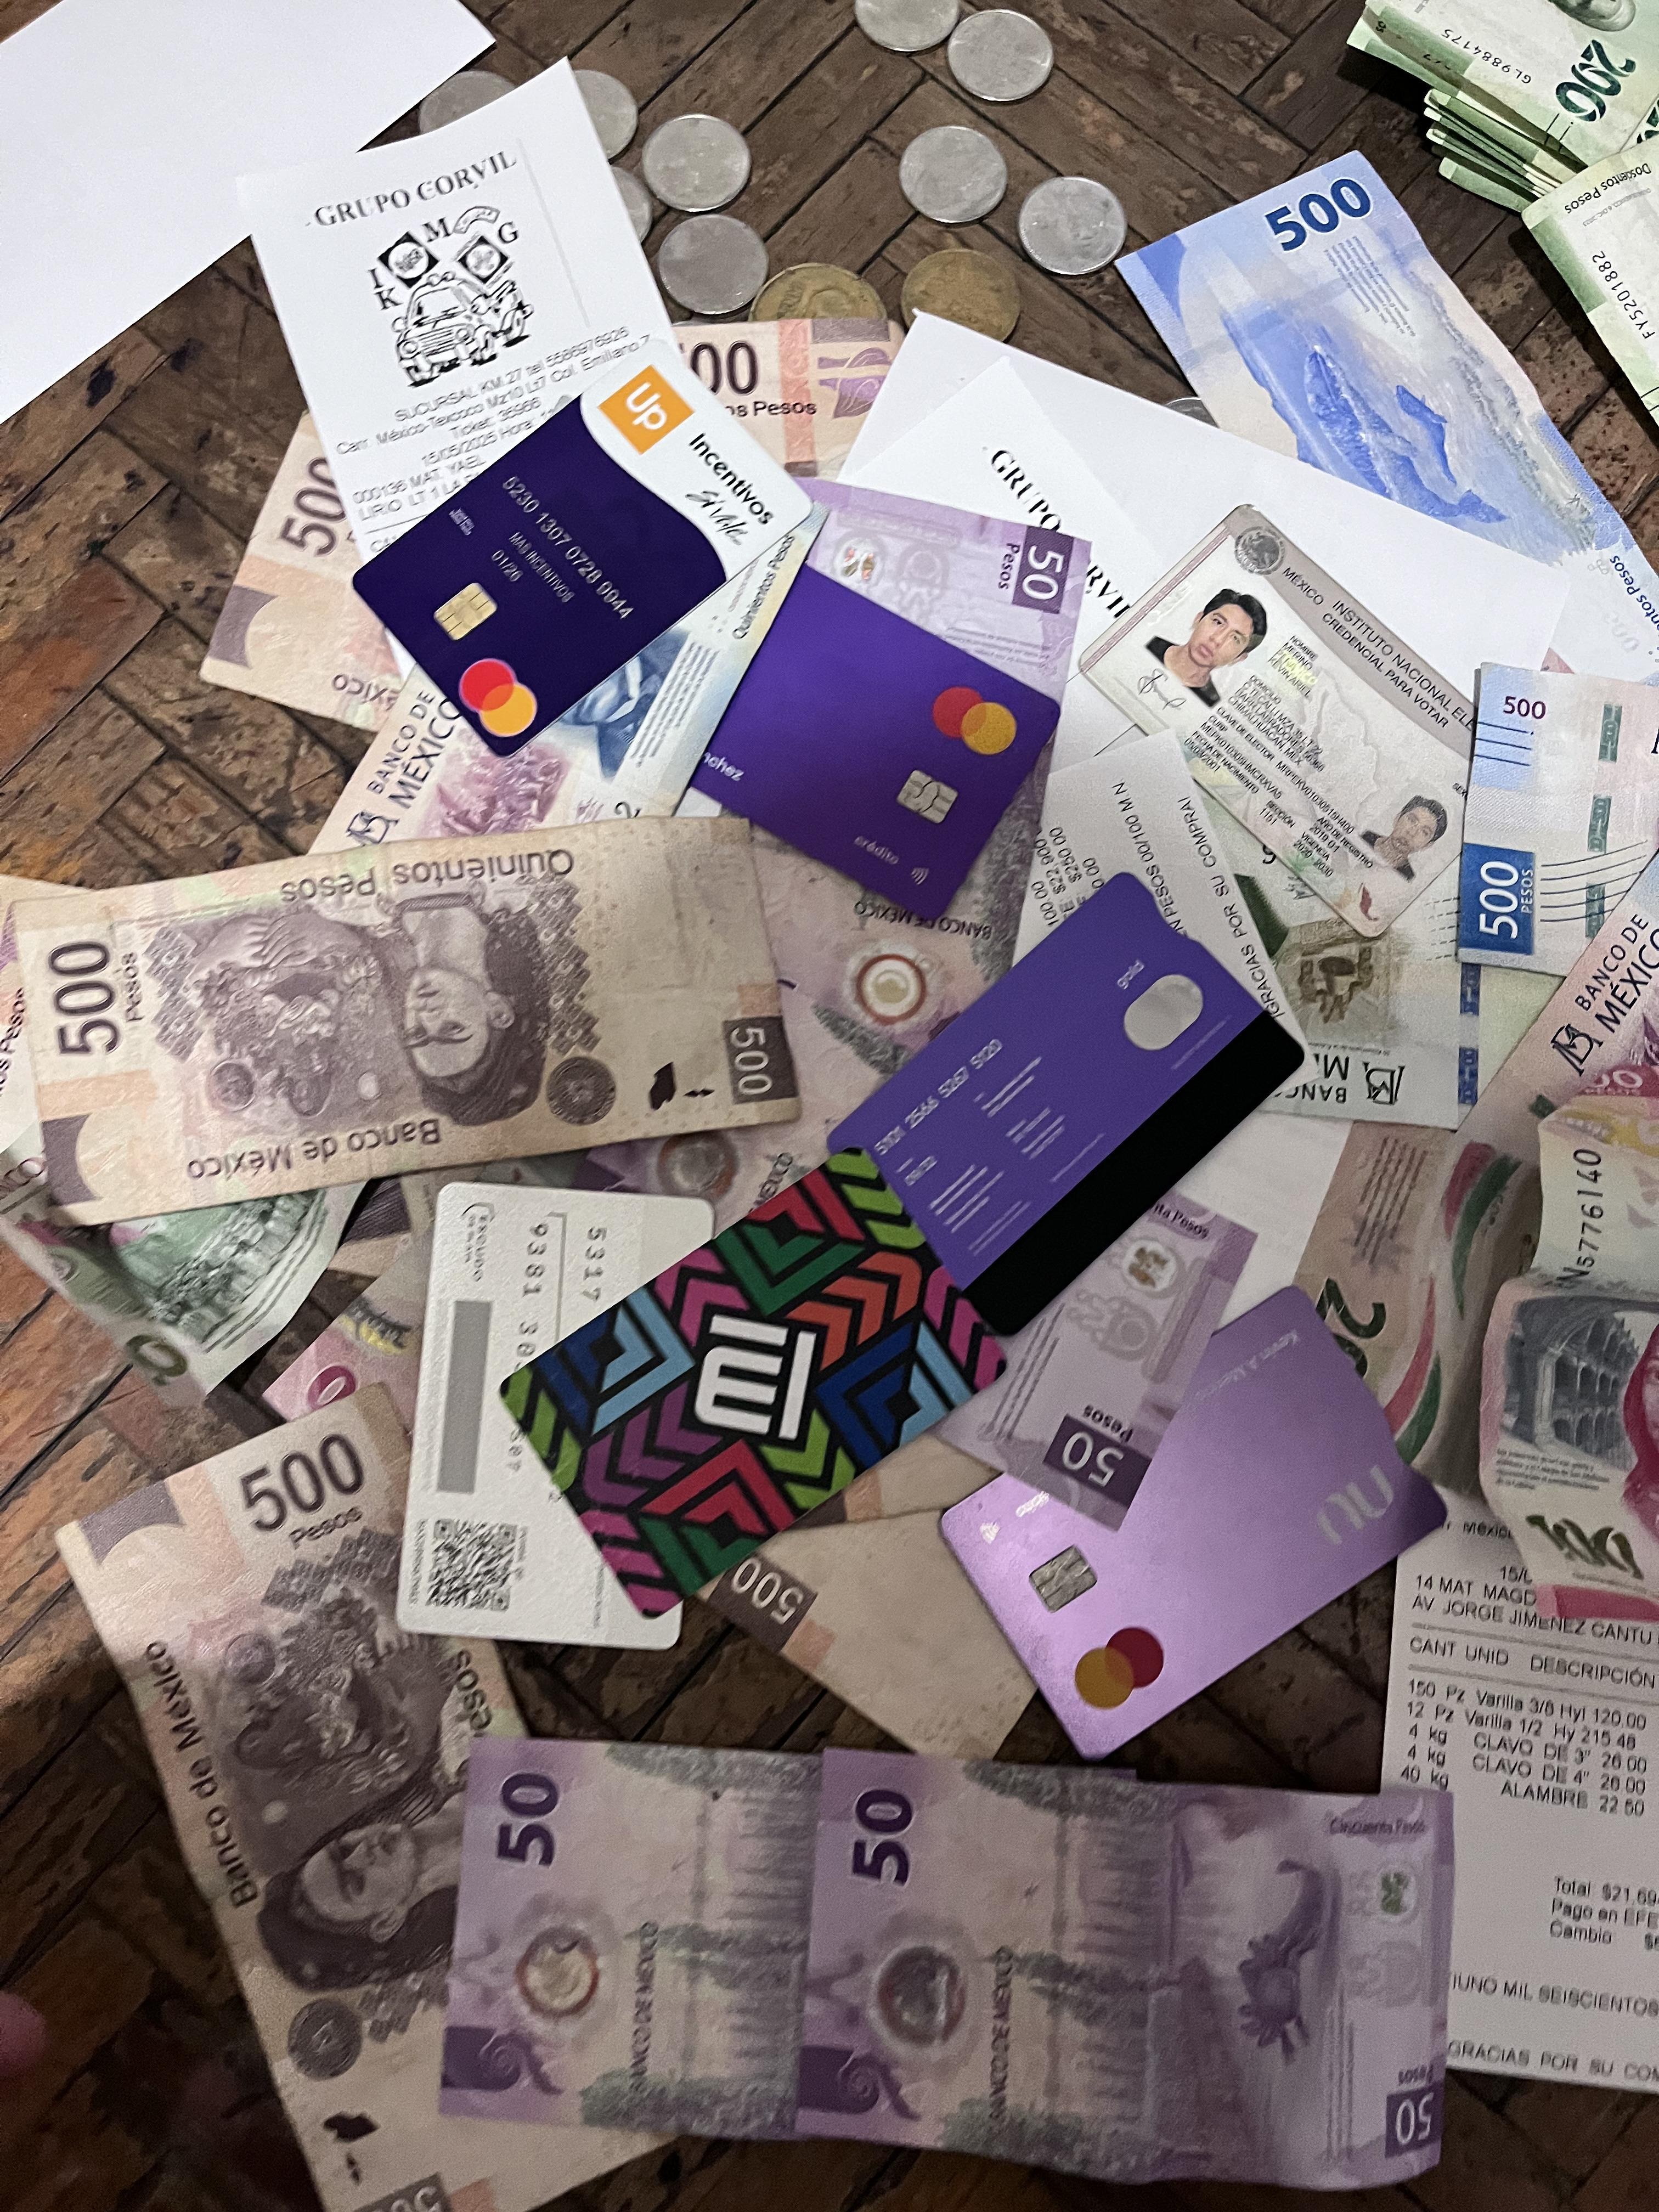100: (1471, 1082, 1659, 1642)
20: (1243, 1080, 1607, 1519)
200: (1145, 765, 1605, 1150), (1307, 0, 1659, 207)
50: (422, 1719, 1141, 2161), (793, 1730, 1464, 2200), (755, 458, 1094, 1085), (824, 1151, 1276, 1536)
500: (38, 1381, 725, 2212), (0, 786, 819, 1240), (690, 1310, 1082, 1775), (178, 404, 599, 730), (563, 301, 945, 524)
500 nuevo: (1100, 131, 1659, 751), (282, 498, 842, 907), (1415, 639, 1659, 991)
